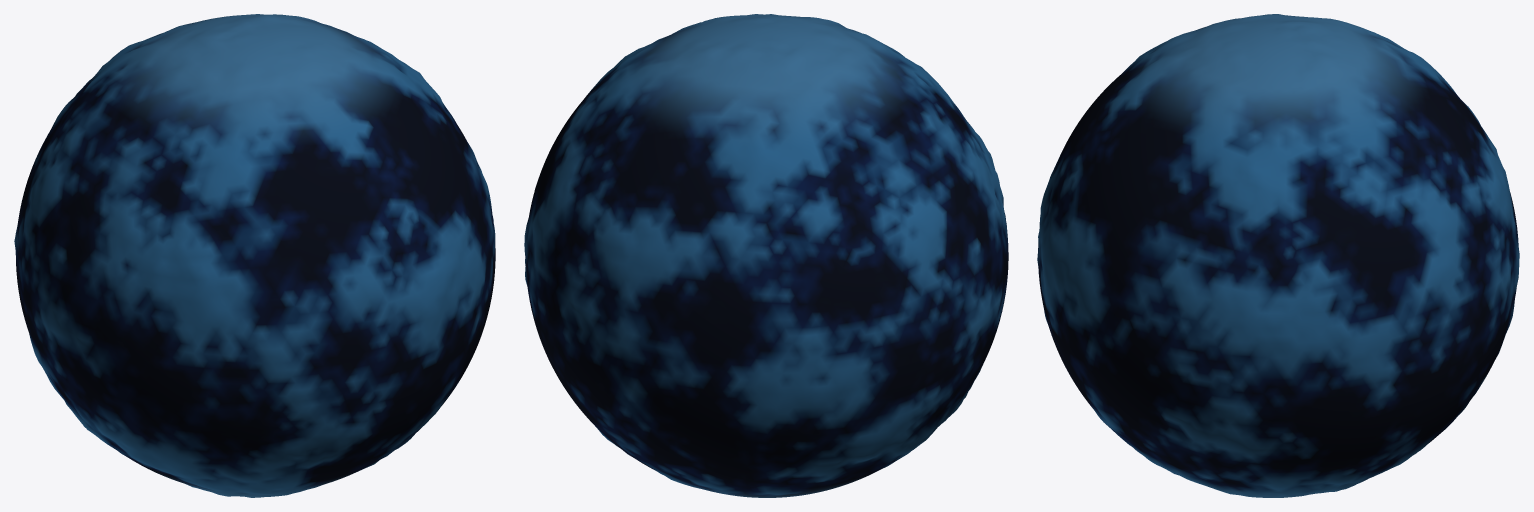
The model's file is planet_ice.glb.
3 renders of one model, left to right at view 1: azimuth 30°, elevation 25°; view 2: azimuth 150°, elevation 25°; view 3: azimuth 270°, elevation 25°, orthographic.
Parts seen in each view (by area): view 1: PlanetIce; view 2: PlanetIce; view 3: PlanetIce.
Part boxes in pixels (x1=…): PlanetIce: x1=14, y1=14, x2=495, y2=497; PlanetIce: x1=524, y1=14, x2=1008, y2=497; PlanetIce: x1=1037, y1=14, x2=1519, y2=497.
Size of the model in its own units: 121 by 120 by 120.
